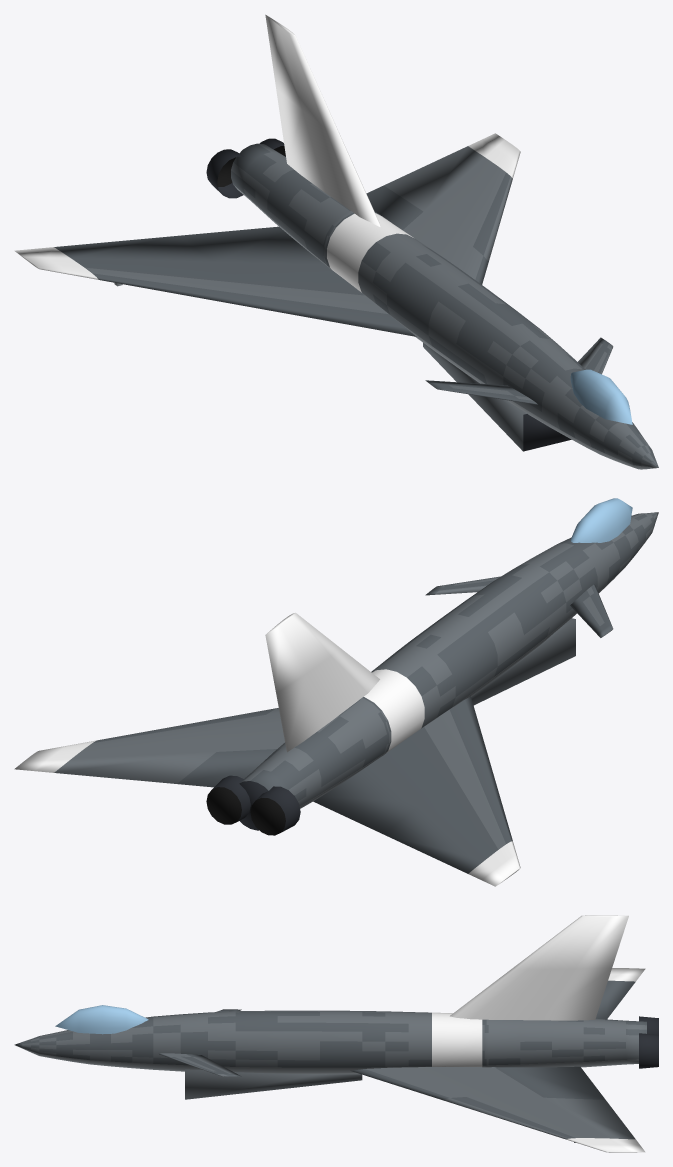
Rendered from typhoon.glb.
3 views of the same model, one above another, from view 1: azimuth 30°, elevation 25°; view 2: azimuth 150°, elevation 25°; view 3: azimuth 270°, elevation 25° (orthographic). The views are drawn at different scales.
Parts seen in each view (by area): view 1: body; view 2: body; view 3: body.
Boxes of the visible parts, bbox=[...] form: body: bbox=[14, 14, 658, 469]; body: bbox=[14, 498, 658, 886]; body: bbox=[14, 915, 658, 1152].
Size of the model in its own units: 10.95 by 4.84 by 16.26.
